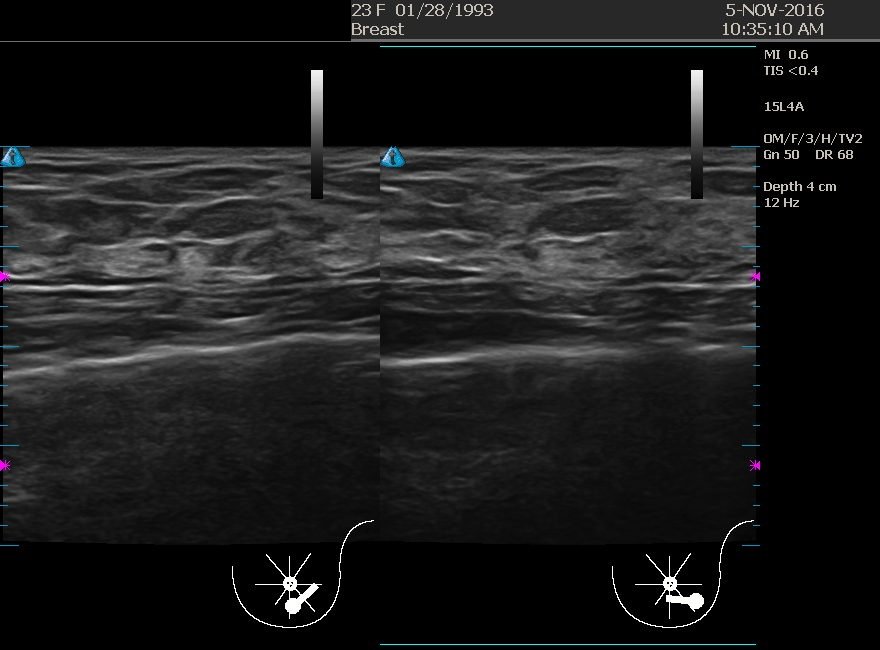Benign: (107, 164, 307, 364), (488, 170, 688, 370)
